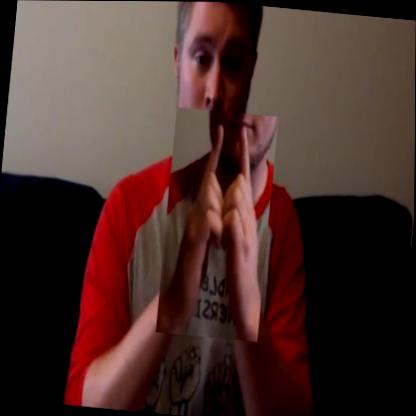NiceToMeetYou: (156, 107, 278, 342)
